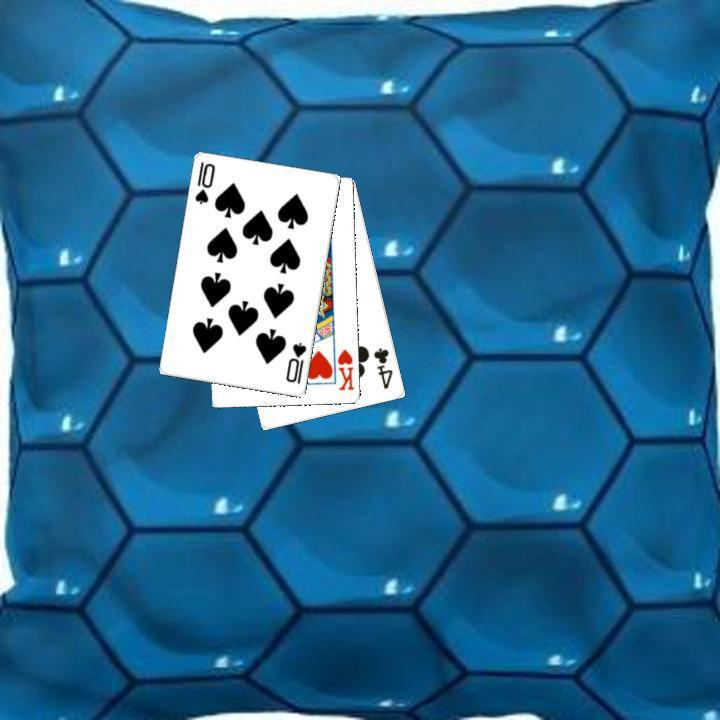10: (190, 158, 217, 207), (282, 338, 309, 386)
4: (370, 343, 395, 391)
K: (333, 345, 356, 392)
